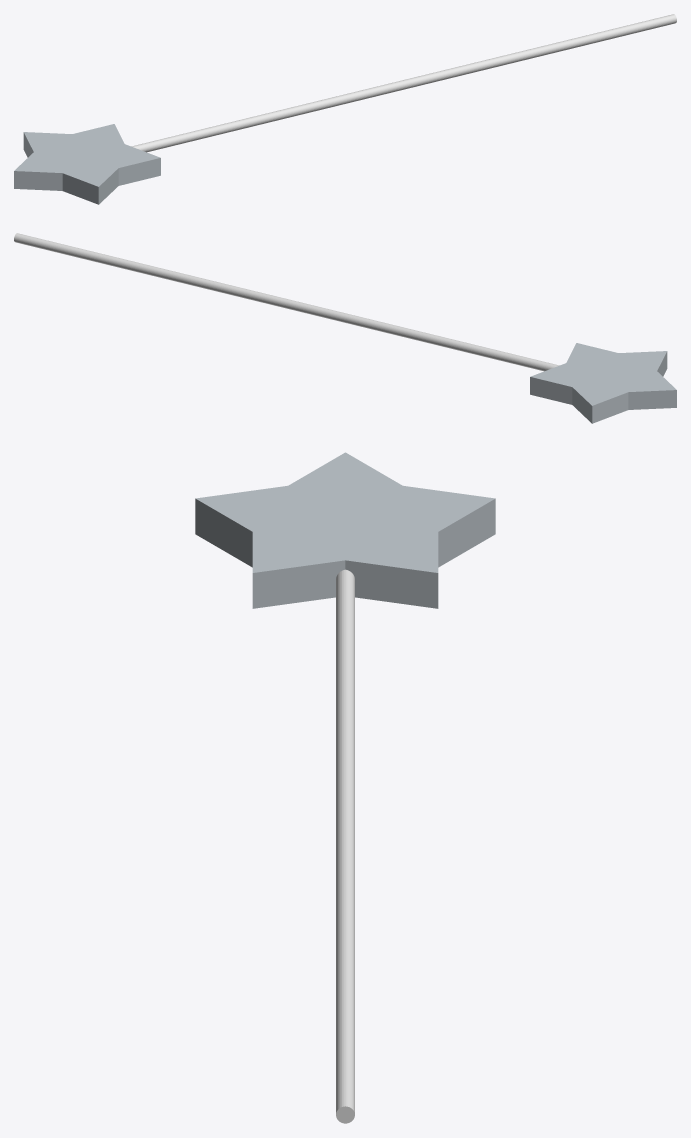
Rendered from inferior_wizard_wand.obj.
3 renders of one model, top to bottom at view 1: azimuth 30°, elevation 25°; view 2: azimuth 150°, elevation 25°; view 3: azimuth 270°, elevation 25°, orthographic. The views are drawn at different scales.
Visible parts, largest first — view 1: 五角星_柱体.001, 杆_柱体.008; view 2: 五角星_柱体.001, 杆_柱体.008; view 3: 五角星_柱体.001, 杆_柱体.008.
Boxes of the visible parts, x1,y1,x2,y2 form: 五角星_柱体.001: [14, 124, 160, 204]; 杆_柱体.008: [131, 14, 676, 152]; 五角星_柱体.001: [530, 343, 676, 423]; 杆_柱体.008: [14, 233, 559, 371]; 五角星_柱体.001: [195, 452, 495, 608]; 杆_柱体.008: [336, 569, 354, 1123].
Size of the model in its own units: 1.93 by 0.05 by 0.3804.
